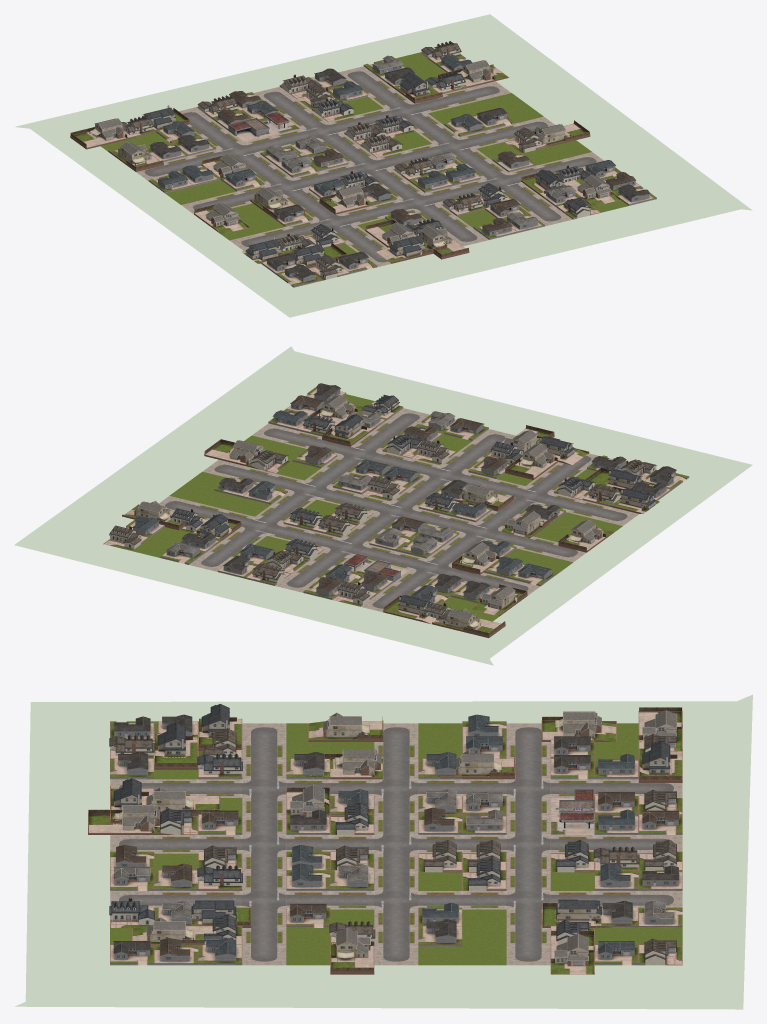
The model's file is city.glb.
3 views of the same model, one above another, from view 1: azimuth 30°, elevation 25°; view 2: azimuth 150°, elevation 25°; view 3: azimuth 270°, elevation 25° (orthographic). The views are drawn at different scales.
Visible parts, largest first — view 1: city_merged_2; view 2: city_merged_2; view 3: city_merged_2.
Part boxes in pixels (x1,y1,x2,y2): city_merged_2: (15, 14, 752, 317); city_merged_2: (14, 346, 752, 665); city_merged_2: (15, 694, 752, 1009).
Size of the model in its own units: 16.93 by 0.48 by 16.78.
1 material, 1 textured.
